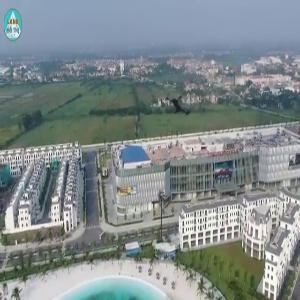drone: (152, 79, 205, 132)
